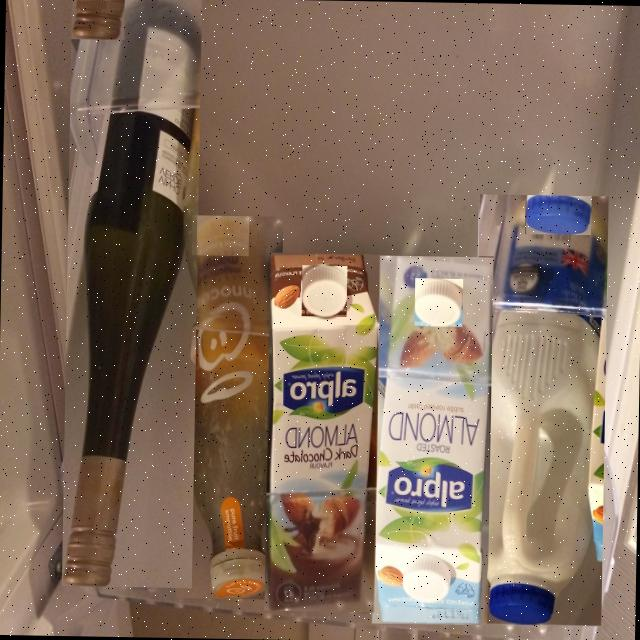Clear plastic bottle: (182, 215, 279, 599)
Drink carton: (374, 256, 493, 624), (268, 254, 378, 610)
Glass bottle: (61, 0, 201, 586)
Metal bottle cap: (71, 0, 125, 39)
Other plastic container: (474, 196, 608, 624)
Plastic bottle cap: (526, 196, 591, 235), (414, 278, 462, 326), (303, 265, 347, 316), (192, 215, 248, 255)
